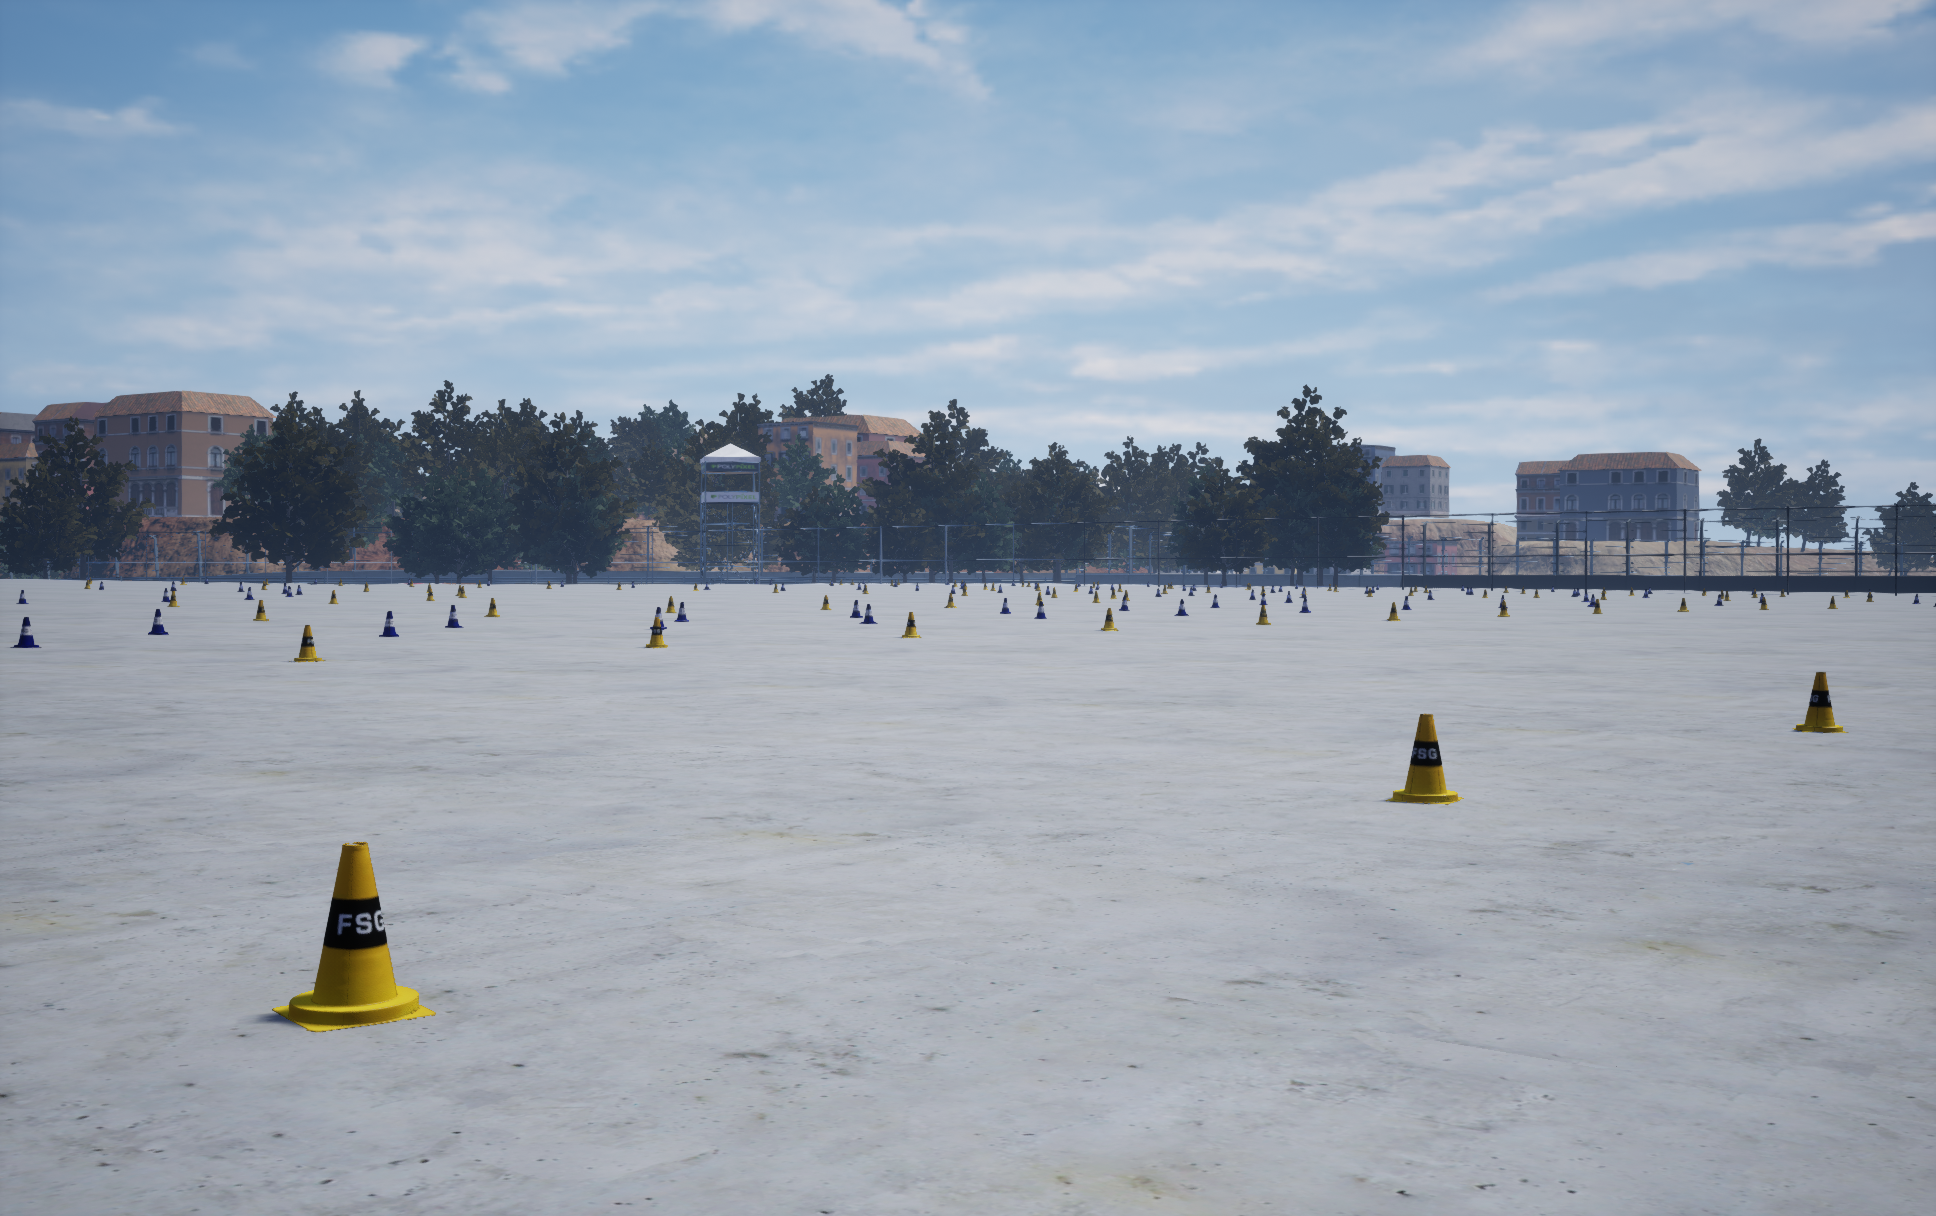blue: (272, 842, 436, 1031), (1385, 714, 1463, 804), (1792, 672, 1848, 733), (289, 625, 325, 661), (644, 616, 667, 647), (902, 612, 920, 637), (1101, 608, 1118, 630), (254, 600, 268, 621), (1257, 605, 1271, 623), (485, 598, 499, 616)
yellow: (10, 616, 41, 647), (148, 609, 168, 635), (380, 611, 398, 636), (445, 605, 464, 628), (859, 604, 877, 623), (650, 607, 665, 629), (674, 602, 688, 621), (1034, 601, 1046, 618), (850, 600, 862, 616)
